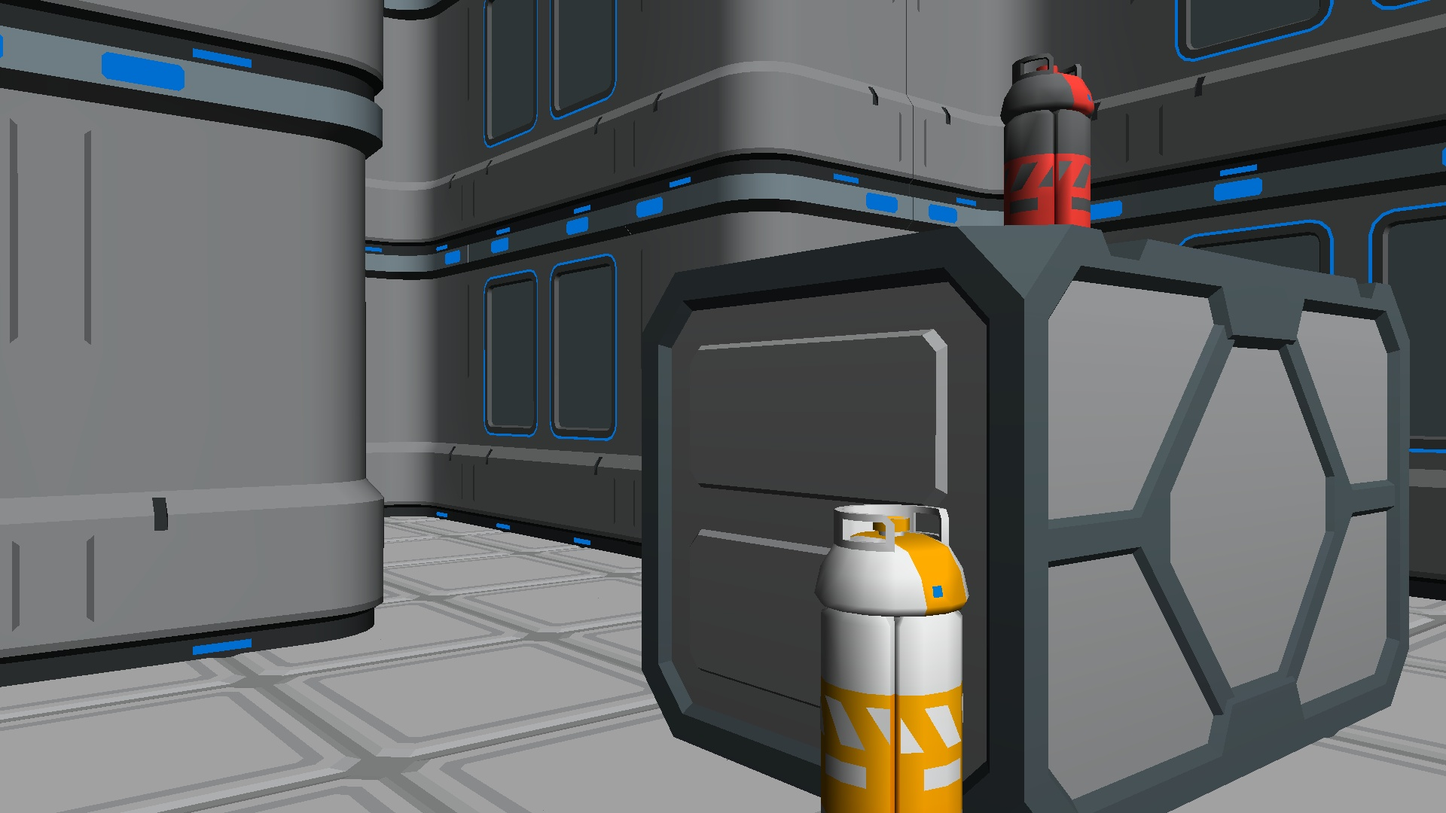red barrel: (1000, 53, 1095, 228)
yellow barrel: (815, 501, 969, 813)
